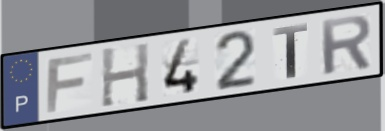2: (213, 28, 258, 93)
4: (161, 37, 201, 96)
F: (44, 50, 95, 115)
H: (98, 40, 151, 110)
R: (318, 13, 374, 77)
T: (272, 22, 310, 80)
